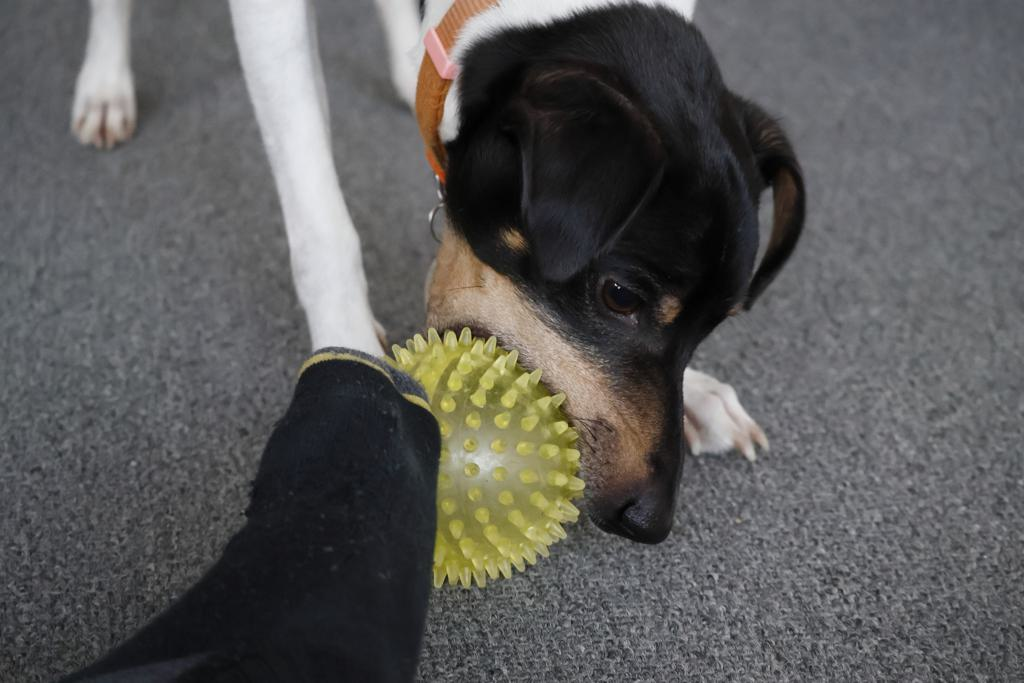Dog: (62, 0, 816, 556)
Humanoid: (42, 333, 457, 683)
